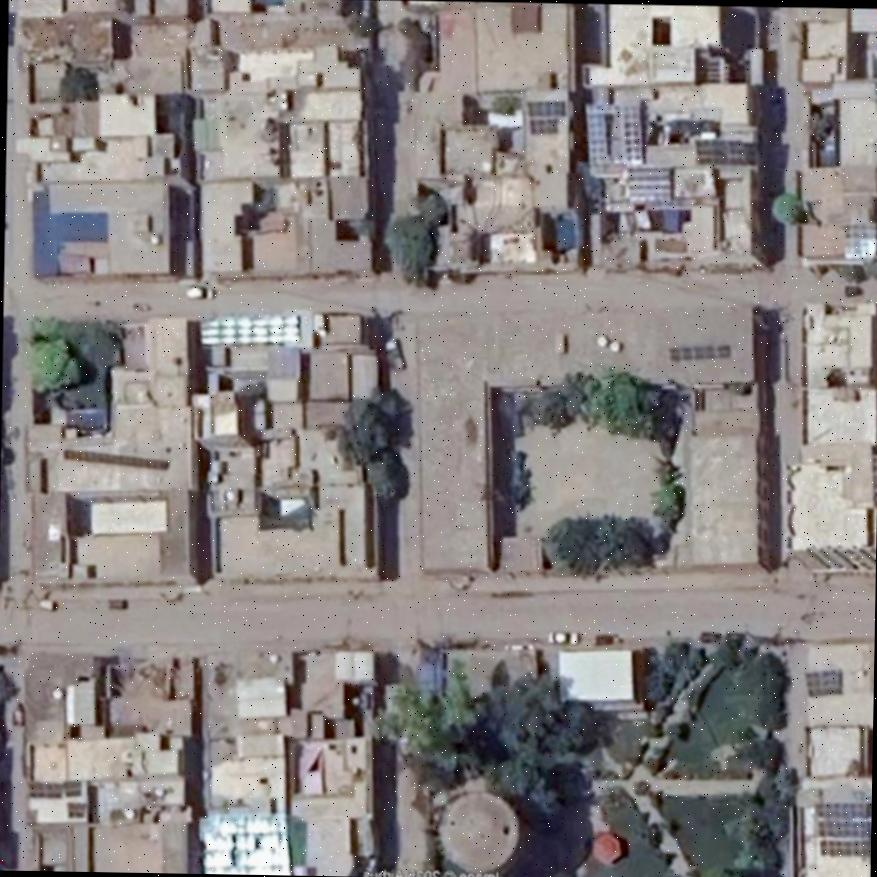Solarpanel: (586, 102, 641, 162), (813, 802, 870, 856), (625, 163, 669, 198), (694, 137, 742, 163), (843, 222, 875, 259), (803, 667, 840, 694), (667, 345, 731, 359), (26, 782, 60, 797), (528, 99, 563, 113), (529, 119, 556, 131), (68, 800, 82, 815), (62, 781, 79, 792)
